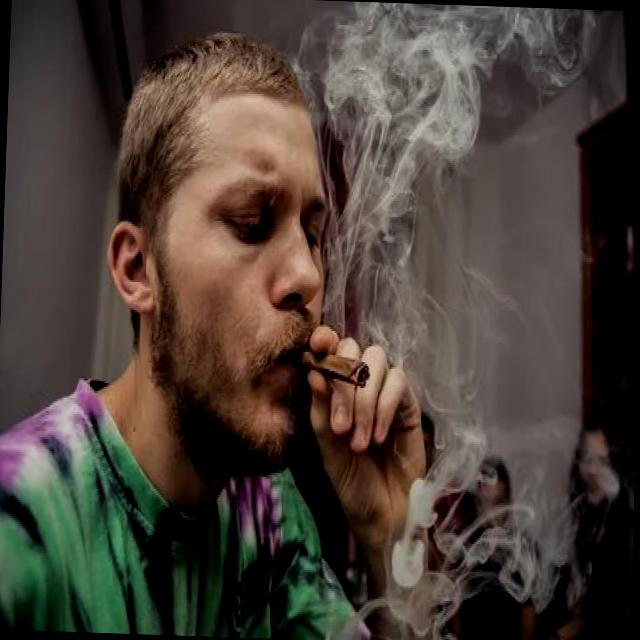cigarette: (286, 339, 374, 392)
